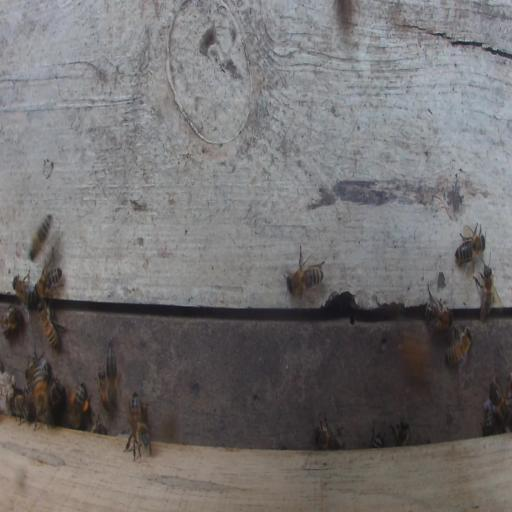nonpollenbee: (396, 329, 431, 383), (284, 264, 325, 302), (454, 221, 486, 266), (36, 299, 60, 350), (478, 264, 498, 324), (422, 298, 452, 336), (445, 326, 473, 366), (29, 215, 53, 261), (313, 414, 344, 449), (125, 422, 152, 460), (34, 264, 62, 300), (105, 338, 118, 410), (33, 362, 48, 422), (1, 302, 28, 334), (12, 268, 34, 307), (489, 380, 508, 421), (96, 367, 109, 411), (25, 359, 51, 381), (391, 418, 410, 448), (11, 394, 30, 423), (50, 376, 65, 409), (130, 391, 142, 432), (91, 413, 107, 435), (483, 406, 493, 437)
pollenbee: (70, 383, 89, 429)
